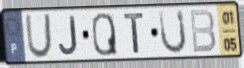B: (188, 8, 218, 55)
J: (57, 15, 79, 57)
Q: (91, 11, 120, 57)
T: (122, 11, 146, 55)
U: (158, 8, 189, 56), (24, 12, 54, 60)
